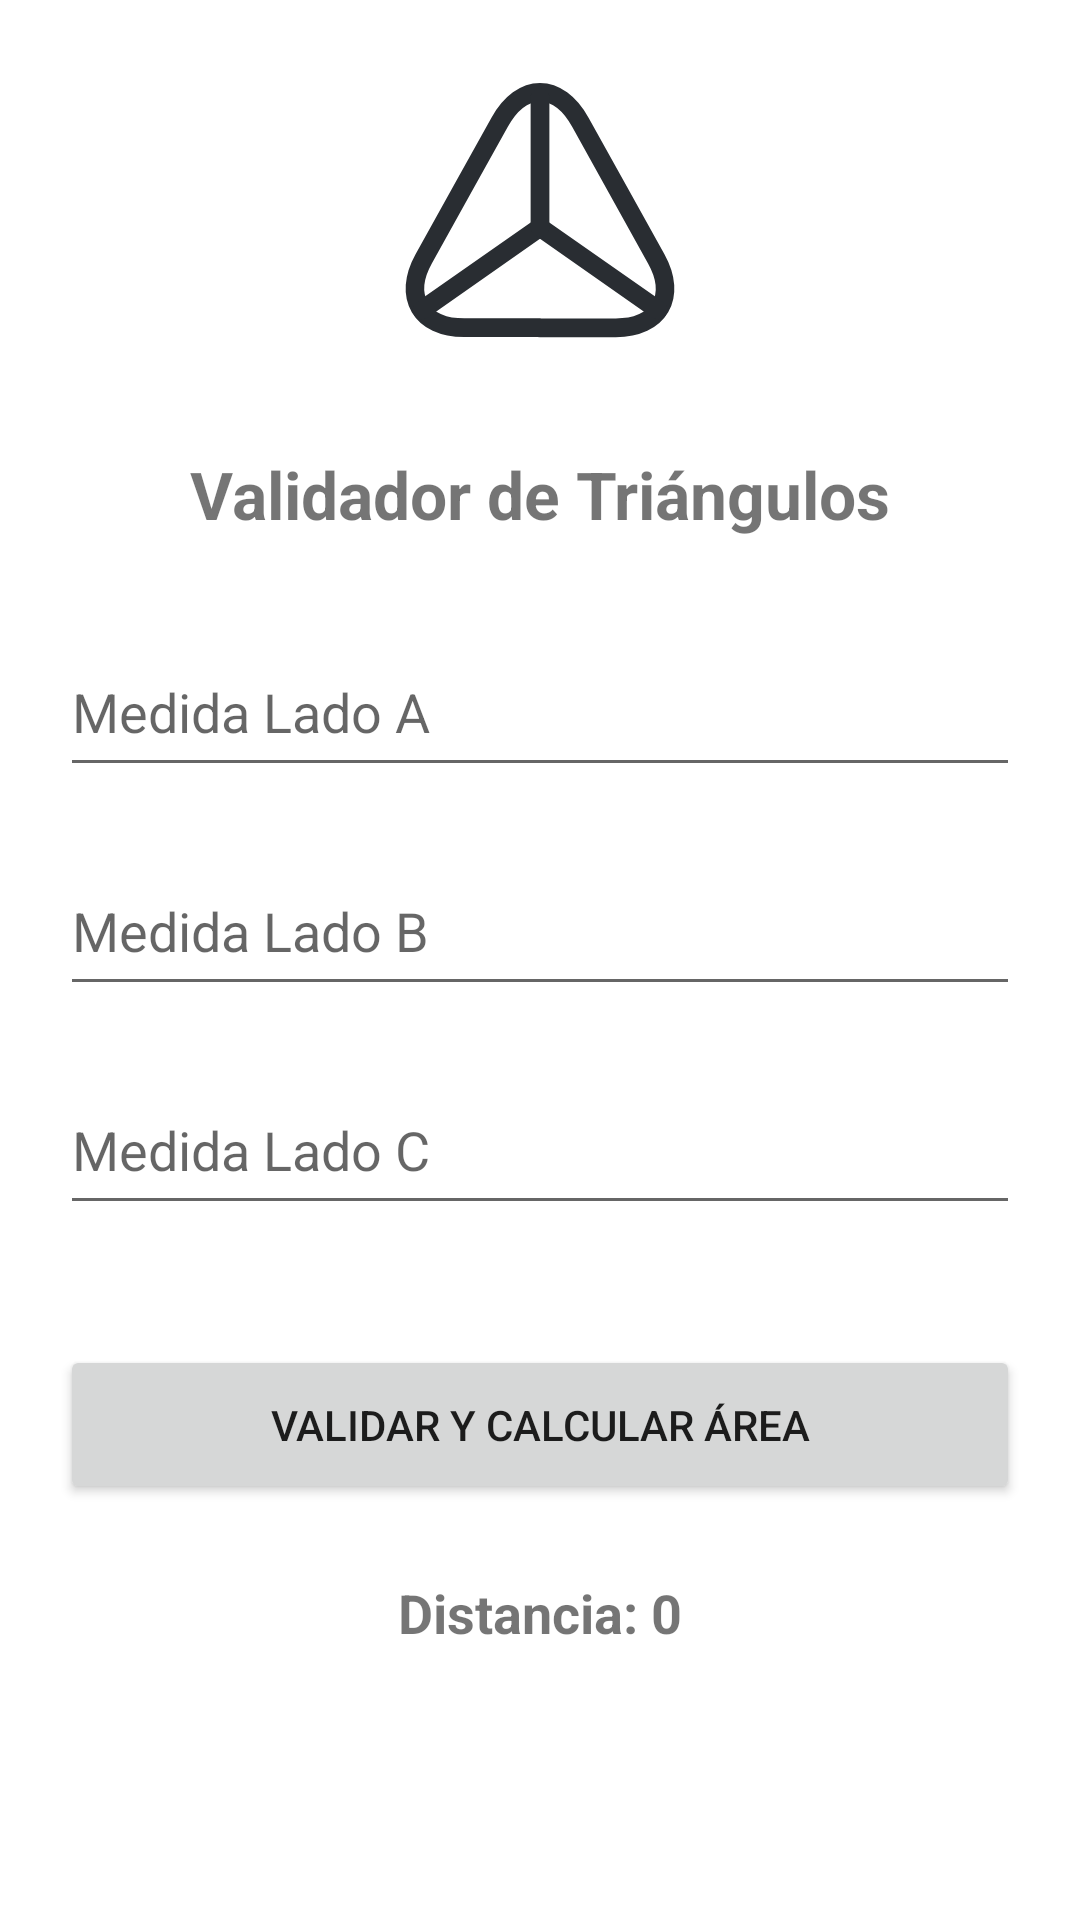

Screen size 1080x1920. Icon name, then its center in pixels as (x,y):
triangle: (540,210)
